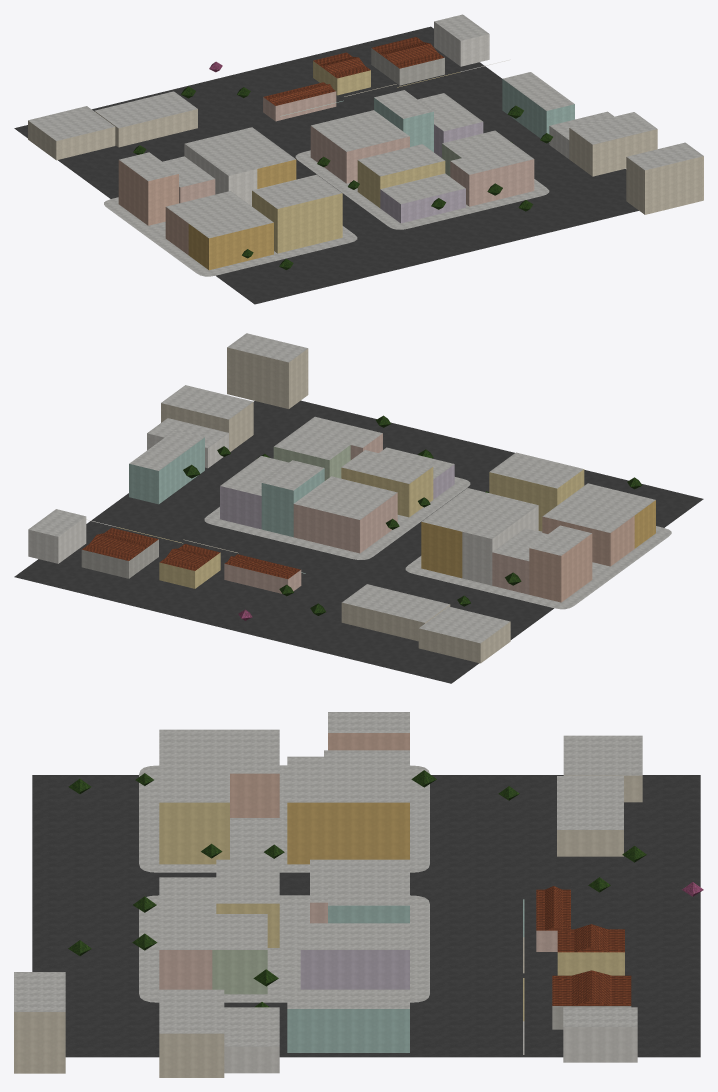
File: cidade_S04_06_lod.gltf
3 views of the same model, one above another, from view 1: azimuth 30°, elevation 25°; view 2: azimuth 150°, elevation 25°; view 3: azimuth 270°, elevation 25° (orthographic). The views are drawn at different scales.
Parts seen in each view (by area): view 1: S04_06_Edificios_LOD1, S04_06_Chao_LOD2, S04_06_Silhueta_LOD2, S04_06_Vegetacao_LOD2; view 2: S04_06_Edificios_LOD1, S04_06_Chao_LOD2, S04_06_Silhueta_LOD2, S04_06_Vegetacao_LOD2; view 3: S04_06_Chao_LOD2, S04_06_Edificios_LOD1, S04_06_Silhueta_LOD2, S04_06_Vegetacao_LOD2.
Part boxes in pixels (bbox=[...]): S04_06_Edificios_LOD1: bbox=[28, 14, 703, 270]; S04_06_Chao_LOD2: bbox=[14, 26, 638, 304]; S04_06_Silhueta_LOD2: bbox=[263, 37, 444, 120]; S04_06_Vegetacao_LOD2: bbox=[133, 61, 552, 269]; S04_06_Edificios_LOD1: bbox=[28, 333, 655, 663]; S04_06_Chao_LOD2: bbox=[14, 400, 703, 683]; S04_06_Silhueta_LOD2: bbox=[81, 527, 301, 593]; S04_06_Vegetacao_LOD2: bbox=[183, 415, 641, 620]; S04_06_Chao_LOD2: bbox=[32, 765, 700, 1057]; S04_06_Edificios_LOD1: bbox=[14, 712, 642, 1077]; S04_06_Silhueta_LOD2: bbox=[536, 889, 631, 1029]; S04_06_Vegetacao_LOD2: bbox=[68, 770, 703, 1007].
Size of the model in its own units: 111 by 10.37 by 103.
Materials: 15 (15 with a texture image).
